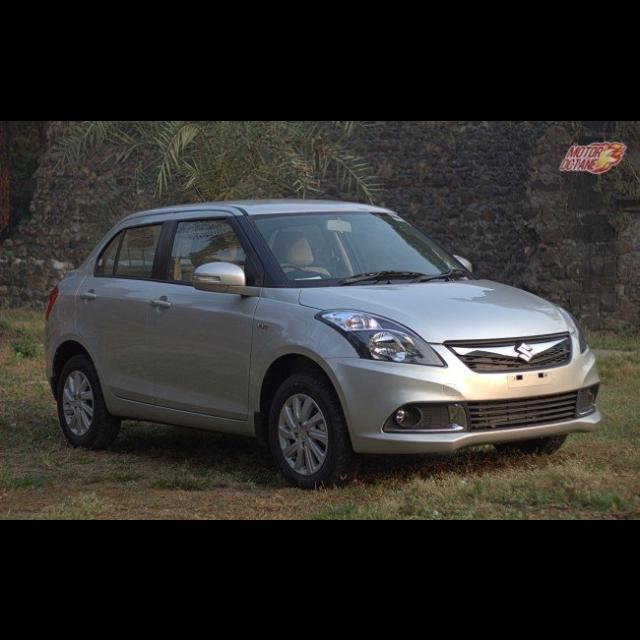number-plate: (505, 369, 548, 388)
vehicles: (49, 200, 592, 488)
